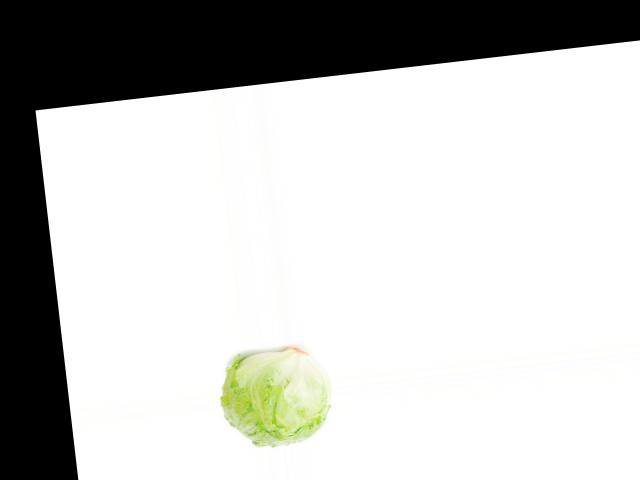lettuce: (216, 346, 331, 452)
